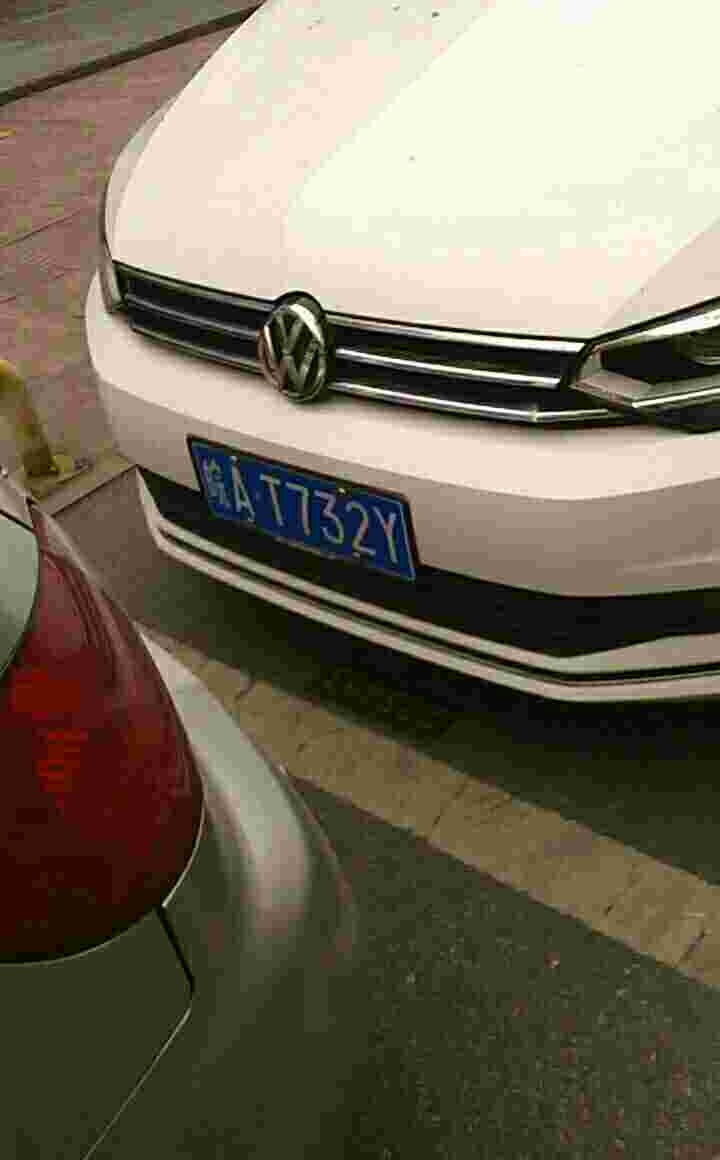license_plate: (186, 426, 414, 575)
